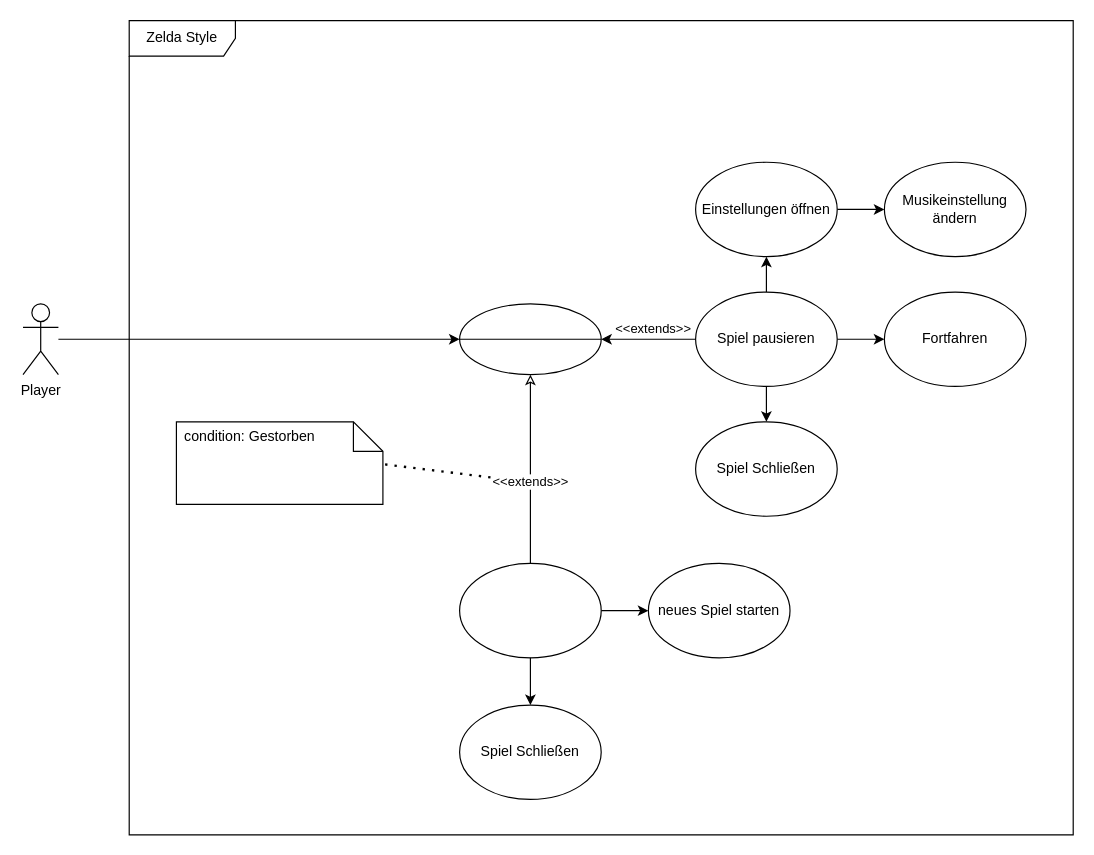
The diagram is 1094 pixels wide and 855 high, and some of its shapes have lost their labels. Here are the shapes that lost their labels. From the top down, the centre of each, then its label:
At (x=529, y=339): "Spiel starten ep: Spielende".
At (x=279, y=462): "extension point: Spielende".
At (x=529, y=610): "Endscreen öffnen".
